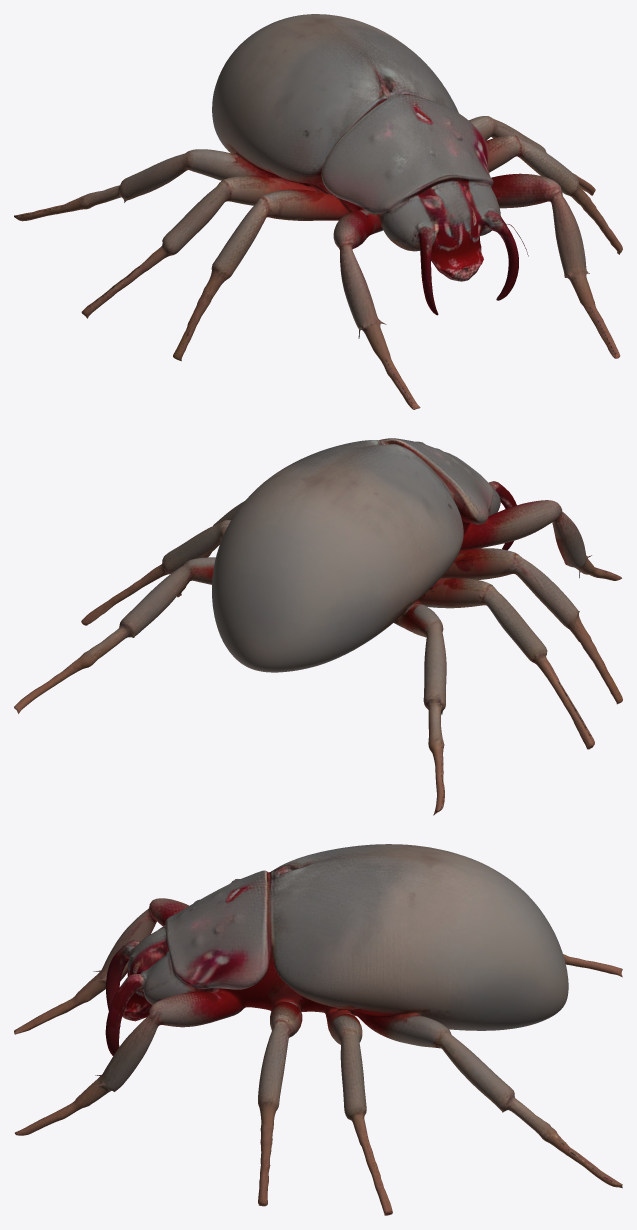
Rendered from vet_parasite_tick.glb.
The picture shows the model from 3 angles, top to bottom: view 1: azimuth 30°, elevation 25°; view 2: azimuth 150°, elevation 25°; view 3: azimuth 270°, elevation 25°; orthographic projection. The views are drawn at different scales.
Parts seen in each view (by area): view 1: model; view 2: model; view 3: model.
Boxes of the visible parts, x1,y1,x2,y2 form: model: (14,14,622,409); model: (14,438,622,815); model: (14,844,622,1215).
Bounding box in the file's own units: 1.89 × 0.8137 × 1.87.
Materials: 1 (1 with a texture image).
